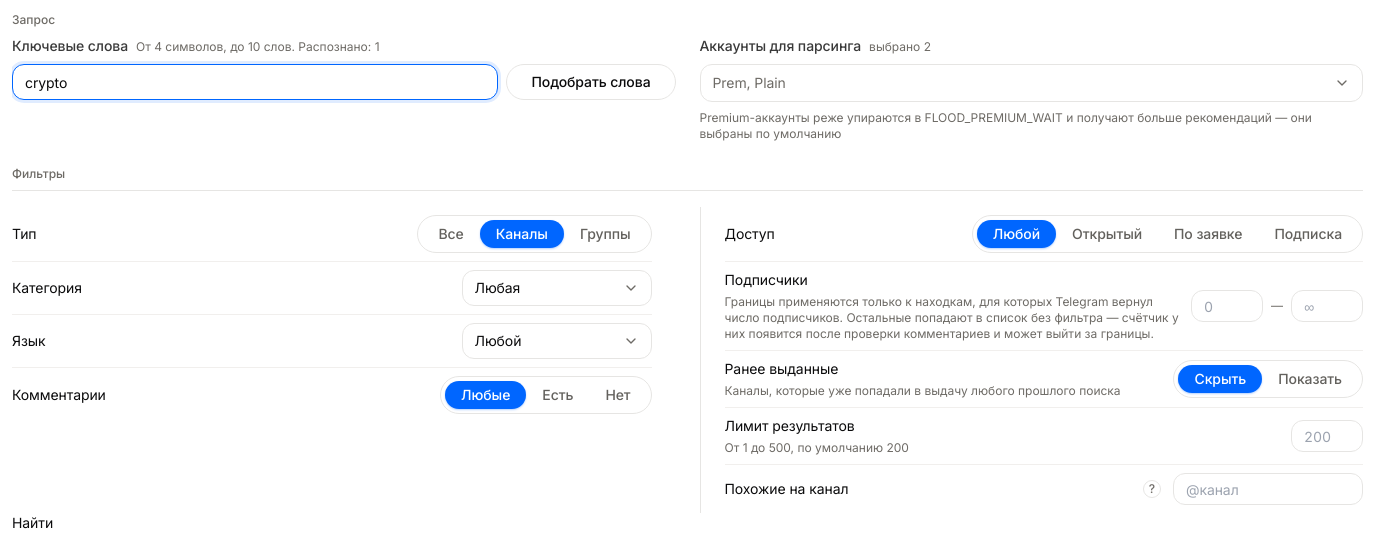
Test case: DiscoveryForm keyword suggester › never starts a search
Click the button "Подобрать слова" at (591, 82), box [506,64,676,100]
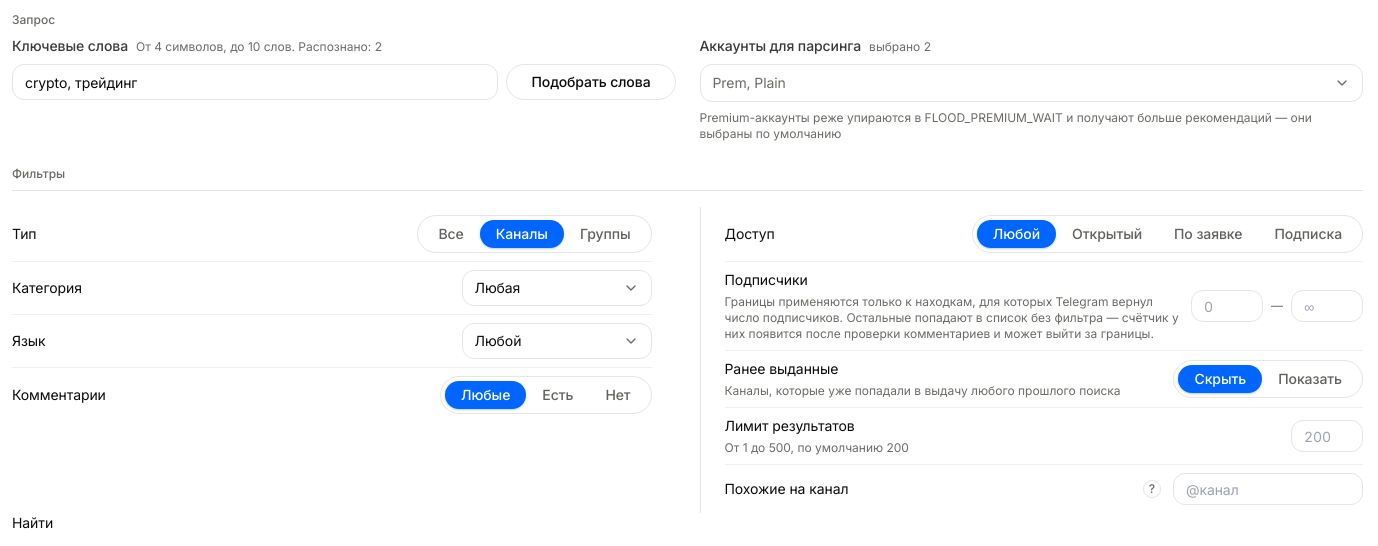
Result: the field with placeholder "крипта, трейдинг, новости" holds "crypto, трейдинг" at [12,64,498,100]
